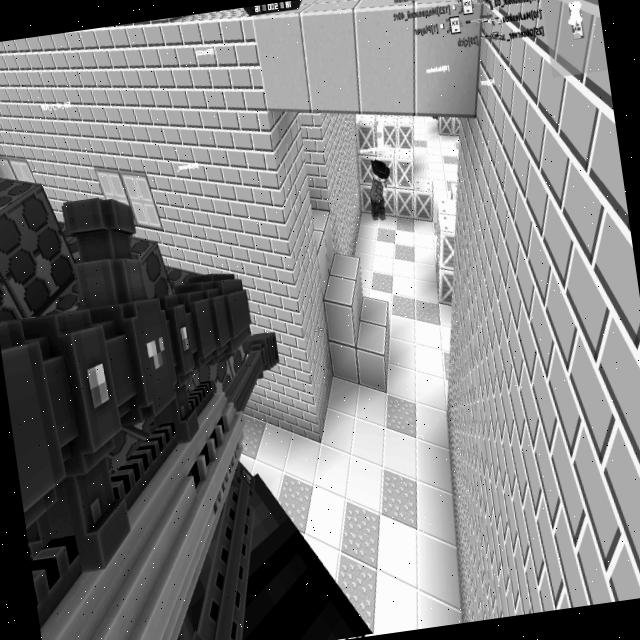Head: (371, 157, 392, 182)
Player: (364, 156, 398, 222)
